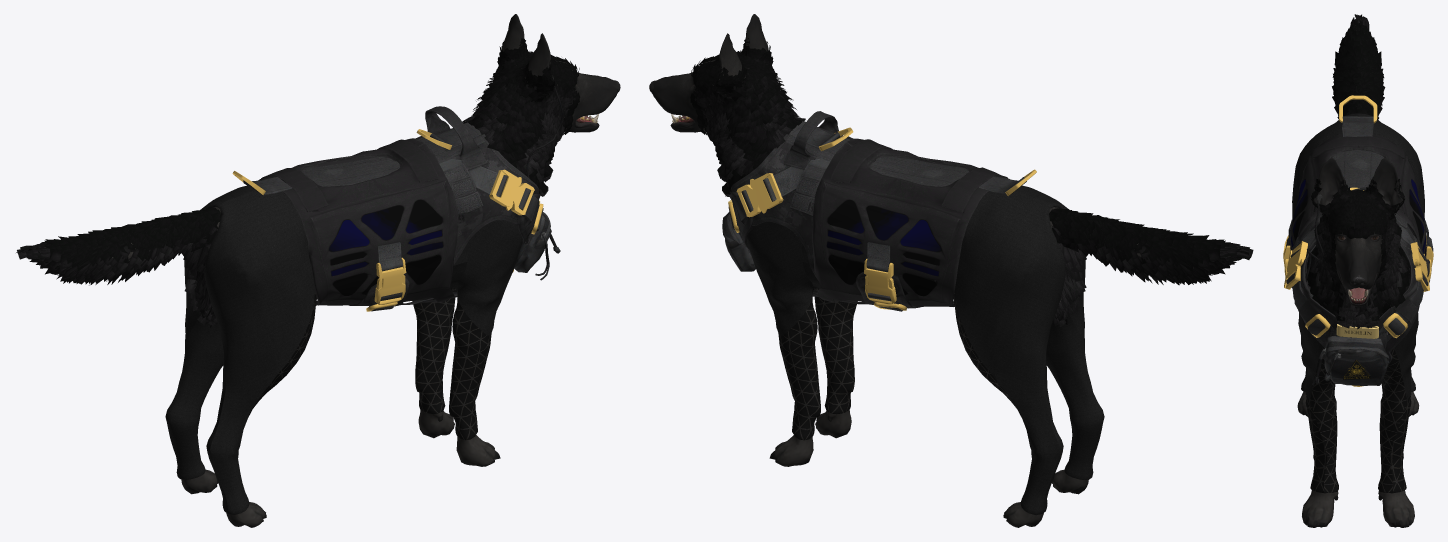
Rendered from Dog.glb.
The picture shows the model from 3 angles, left to right: view 1: azimuth 30°, elevation 25°; view 2: azimuth 150°, elevation 25°; view 3: azimuth 270°, elevation 25°; orthographic projection.
Parts seen in each view (by area): view 1: Object_6, Object_4, Object_12, Object_10, Object_8, Object_34, Object_14, Object_18; view 2: Object_6, Object_4, Object_12, Object_10, Object_8, Object_34, Object_14, Object_18; view 3: Object_4, Object_6, Object_8, Object_10, Object_12, Object_18, Object_14, Object_34, Object_24, Object_22, Object_16, Object_26.
Boxes of the visible parts, bbox=[...] form: Object_6: bbox=[165, 185, 522, 514]; Object_4: bbox=[16, 38, 580, 327]; Object_12: bbox=[258, 138, 458, 305]; Object_10: bbox=[243, 106, 543, 311]; Object_8: bbox=[112, 14, 620, 527]; Object_34: bbox=[329, 200, 442, 295]; Object_14: bbox=[232, 129, 543, 311]; Object_18: bbox=[514, 212, 560, 280]; Object_6: bbox=[746, 185, 1104, 515]; Object_4: bbox=[690, 38, 1253, 326]; Object_12: bbox=[812, 138, 1009, 306]; Object_10: bbox=[728, 111, 1026, 311]; Object_8: bbox=[649, 14, 1193, 527]; Object_34: bbox=[826, 200, 940, 296]; Object_14: bbox=[728, 127, 1036, 310]; Object_18: bbox=[722, 212, 755, 271]; Object_4: bbox=[1306, 14, 1409, 329]; Object_6: bbox=[1292, 113, 1424, 493]; Object_8: bbox=[1297, 158, 1419, 527]; Object_10: bbox=[1286, 116, 1433, 353]; Object_12: bbox=[1290, 134, 1426, 303]; Object_18: bbox=[1312, 336, 1392, 385]; Object_14: bbox=[1283, 95, 1433, 386]; Object_34: bbox=[1290, 179, 1426, 261]; Object_24: bbox=[1336, 324, 1378, 338]; Object_22: bbox=[1343, 359, 1370, 379]; Object_16: bbox=[1348, 287, 1368, 304]; Object_26: bbox=[1305, 203, 1323, 281].
Size of the model in its own units: 167 by 109 by 36.83.
Materials: 16 (16 with a texture image).
